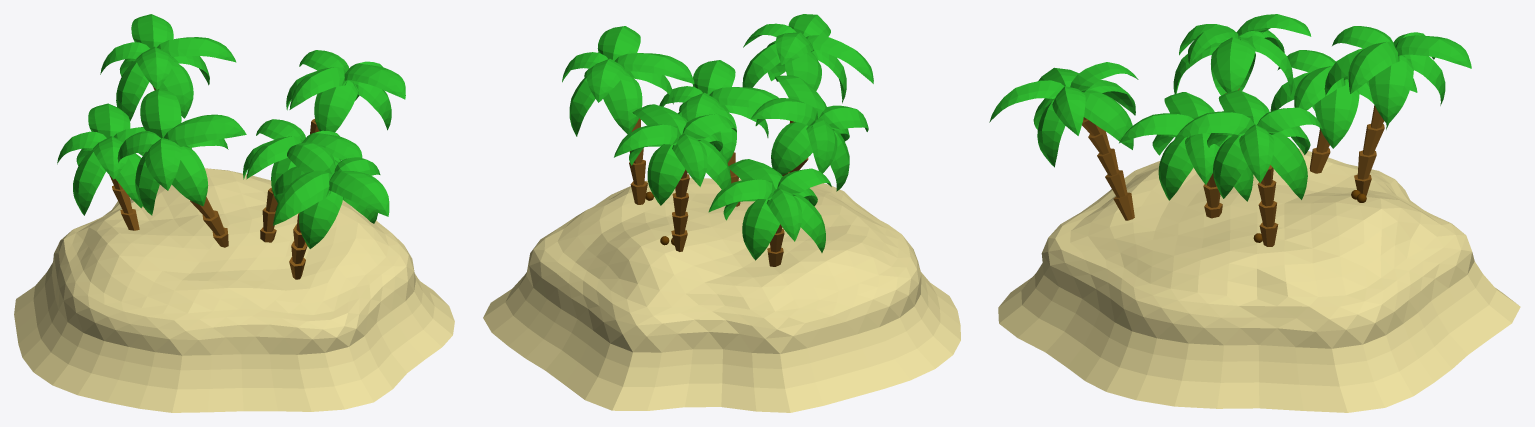
Rendered from island.fbx.
3 views of the same model, side by side, from view 1: azimuth 30°, elevation 25°; view 2: azimuth 150°, elevation 25°; view 3: azimuth 270°, elevation 25° (orthographic). The views are drawn at different scales.
Visible parts, largest first — view 1: Island, Tree5, Tree4, Tree2, Tree3, Tree7, Tree6; view 2: Island, Tree2, Tree3, Tree7, Tree5, Tree4, Tree6; view 3: Island, Tree3, Tree4, Tree2, Tree6, Tree5, Tree7.
Part boxes in pixels (<box>): Island: <box>14,168,454,412</box>; Tree5: <box>117,89,246,247</box>; Tree4: <box>273,142,389,279</box>; Tree2: <box>100,14,236,121</box>; Tree3: <box>286,50,405,134</box>; Tree7: <box>57,103,192,230</box>; Tree6: <box>243,119,362,242</box>; Island: <box>483,177,960,412</box>; Tree2: <box>614,104,736,251</box>; Tree3: <box>562,26,694,204</box>; Tree7: <box>708,159,831,266</box>; Tree5: <box>751,75,868,191</box>; Tree4: <box>742,14,873,123</box>; Tree6: <box>659,60,778,206</box>; Island: <box>998,148,1520,412</box>; Tree3: <box>1173,90,1322,246</box>; Tree4: <box>989,62,1138,220</box>; Tree2: <box>1324,26,1471,195</box>; Tree6: <box>1119,92,1253,218</box>; Tree5: <box>1173,14,1311,95</box>; Tree7: <box>1270,50,1417,173</box>.
Bounding box in the file's own units: 468 × 283 × 498.
